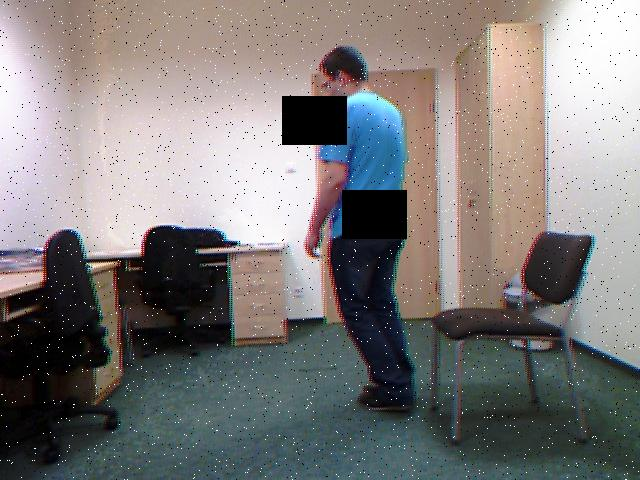standing: (293, 29, 430, 433)
